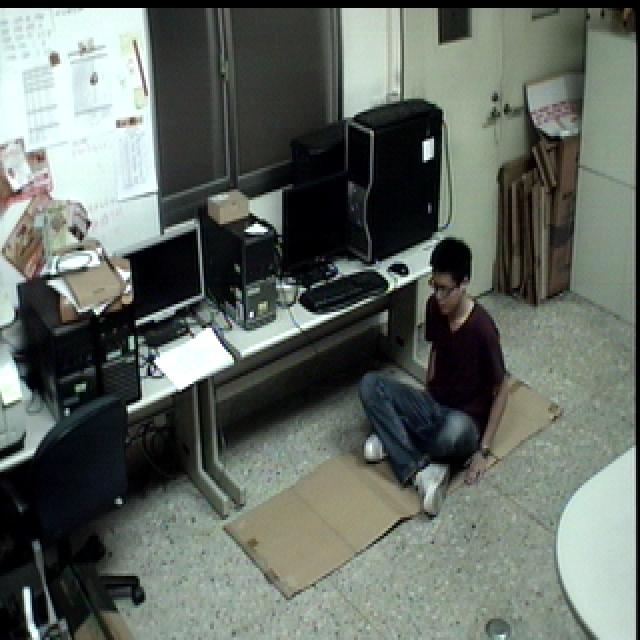sit: (347, 232, 516, 523)
